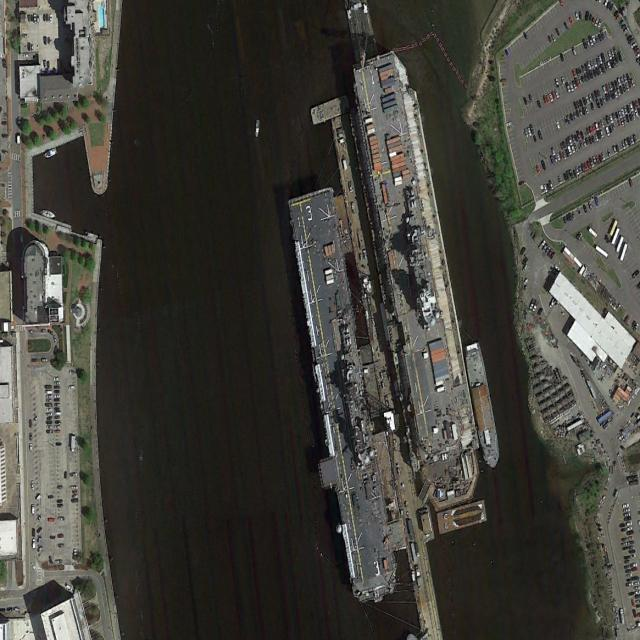Landing: (275, 181, 414, 610), (350, 46, 480, 466)
Other Ship: (463, 338, 503, 470)
